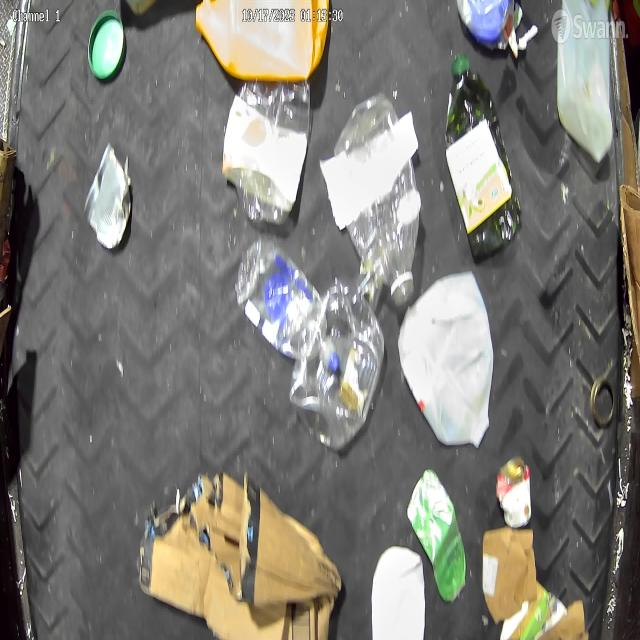milk-jug: (401, 272, 498, 453)
